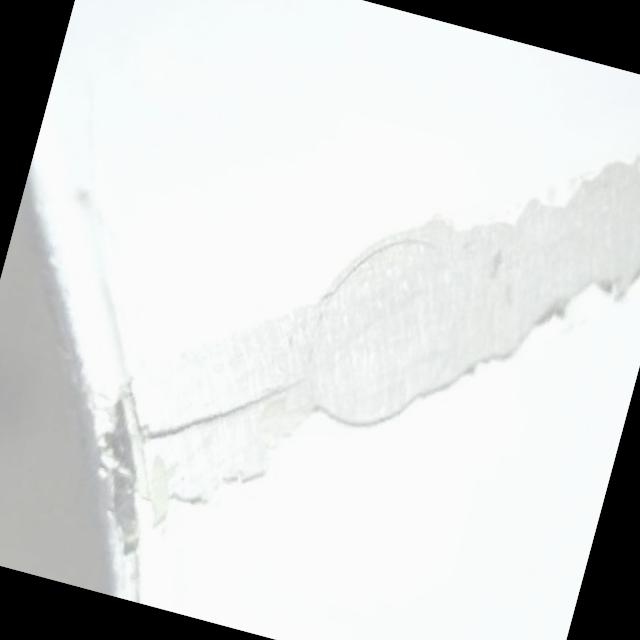crack: (222, 364, 302, 434), (140, 398, 218, 456)
